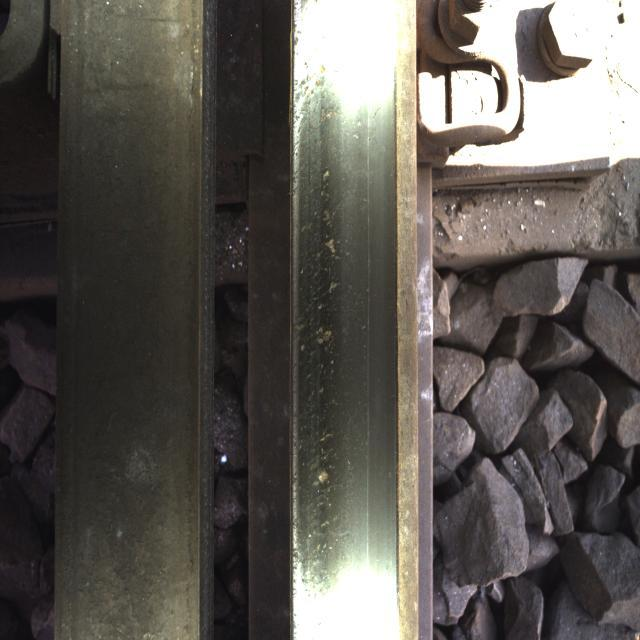scar: (290, 12, 358, 608)
